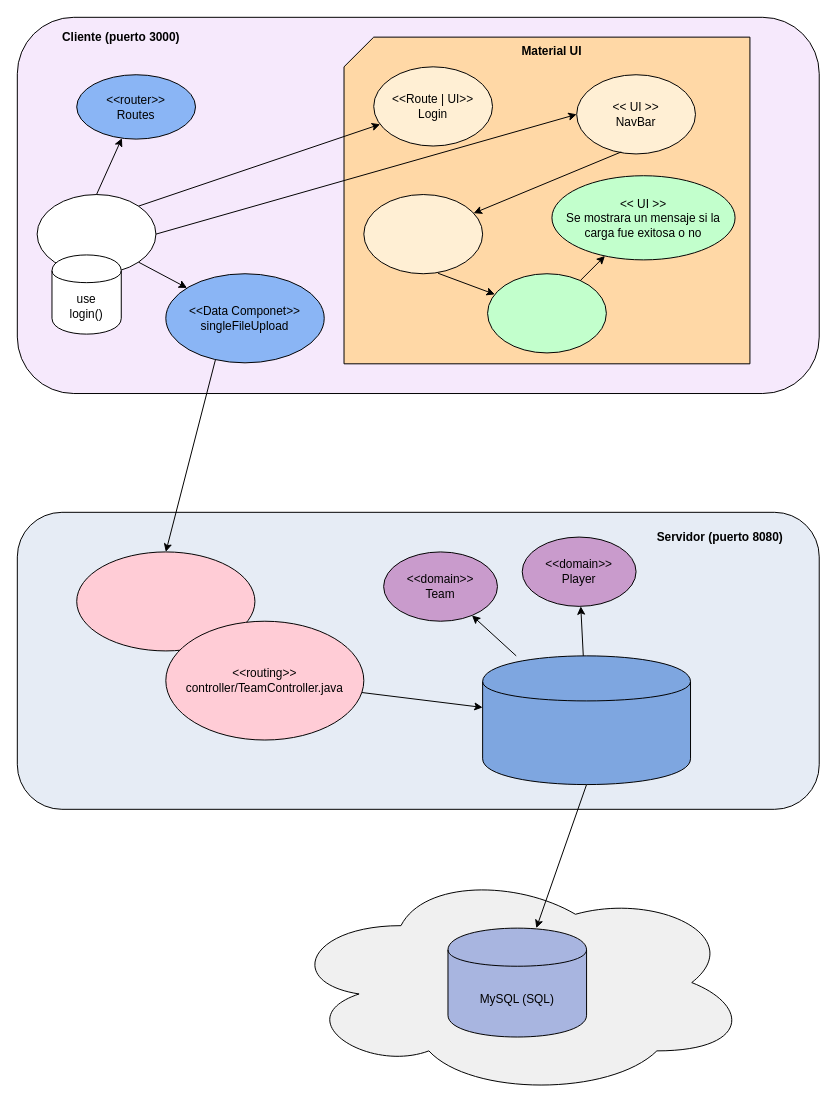
Image size: 837x1114. Some labels were removed from this diagram. The shapes that lost their labels are listed below. From the top down, each one's box as (x1, y1, x2, y2) in pixels, then its label:
(36, 194, 156, 274): WEB
(363, 194, 483, 274): << UI >> /LoadTeam
(487, 273, 606, 353): << UI >> LoadTeam.js Component
(76, 551, 255, 651): <<routing>> TeamController.java
(482, 655, 691, 785): <<cache>> setPlayerFromExcel: Crea los jugadores y el equipo.Guarda en la BD
